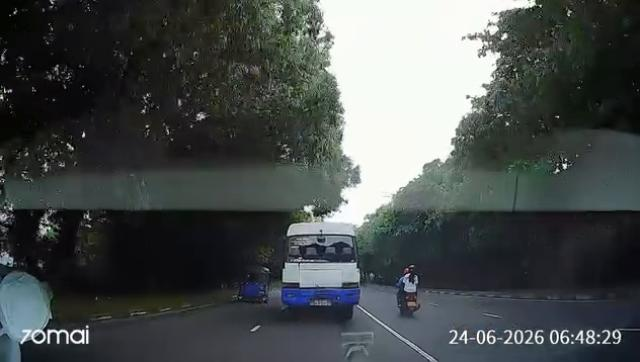illegal overtaking: (391, 262, 425, 319)
